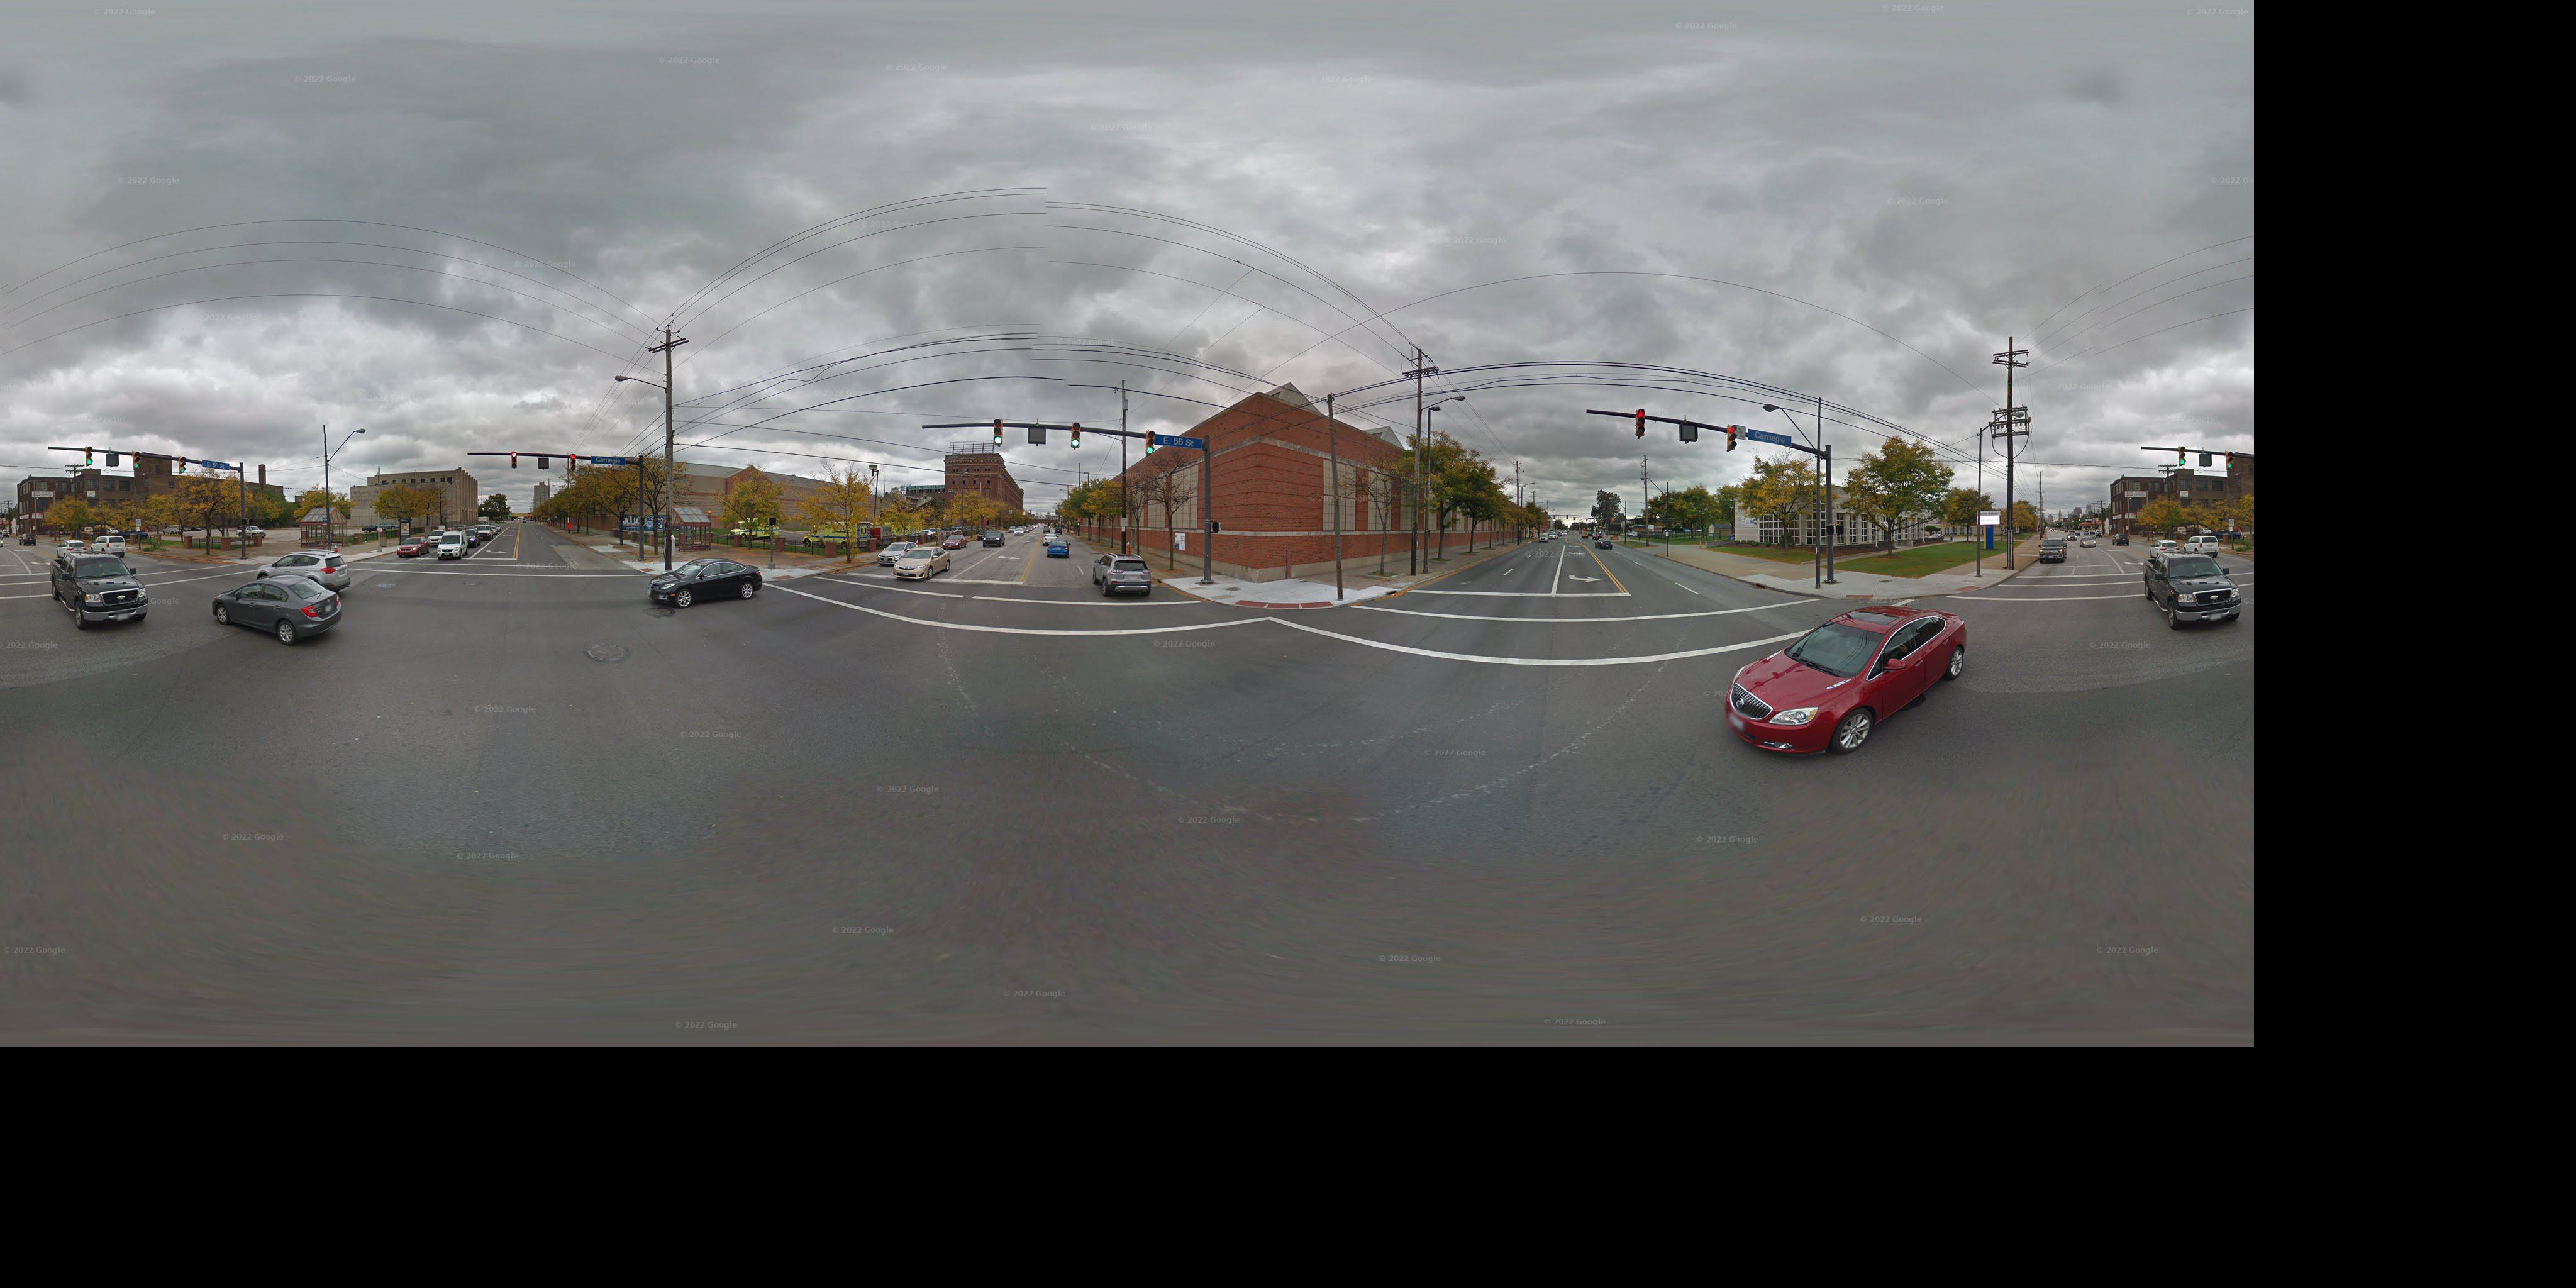Curb Ramp: (1216, 585, 1341, 626), (1838, 582, 1881, 611), (1945, 578, 1988, 596), (769, 572, 797, 585), (632, 563, 655, 575), (251, 560, 271, 567)
